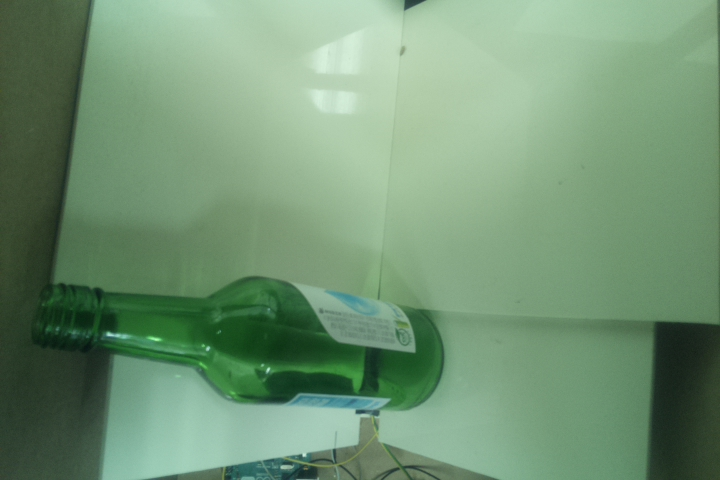soju: (30, 275, 446, 413)
